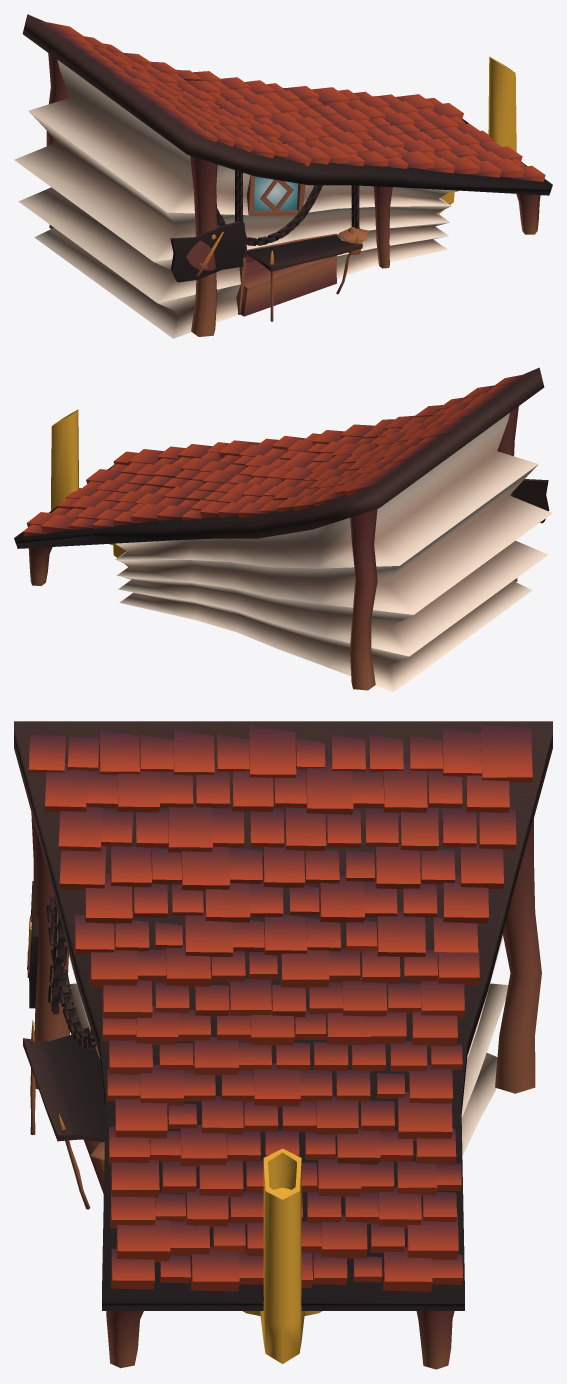
File: Blacksmith.fbx
The picture shows the model from 3 angles, top to bottom: view 1: azimuth 30°, elevation 25°; view 2: azimuth 150°, elevation 25°; view 3: azimuth 270°, elevation 25°; orthographic projection. The views are drawn at different scales.
Parts seen in each view (by area): view 1: Blacksmith; view 2: Blacksmith; view 3: Blacksmith.
Part boxes in pixels (x1,y1,x2,y2): Blacksmith: (14,14,552,338); Blacksmith: (14,367,552,692); Blacksmith: (14,721,552,1369).
Bounding box in the file's own units: 1762 × 848 × 1168.
Materials: 1 (1 with a texture image).
